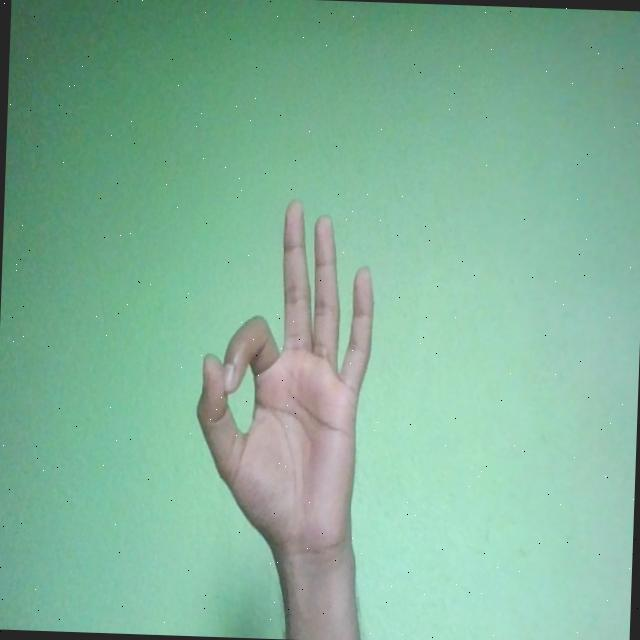Rock On: (192, 196, 378, 564)
